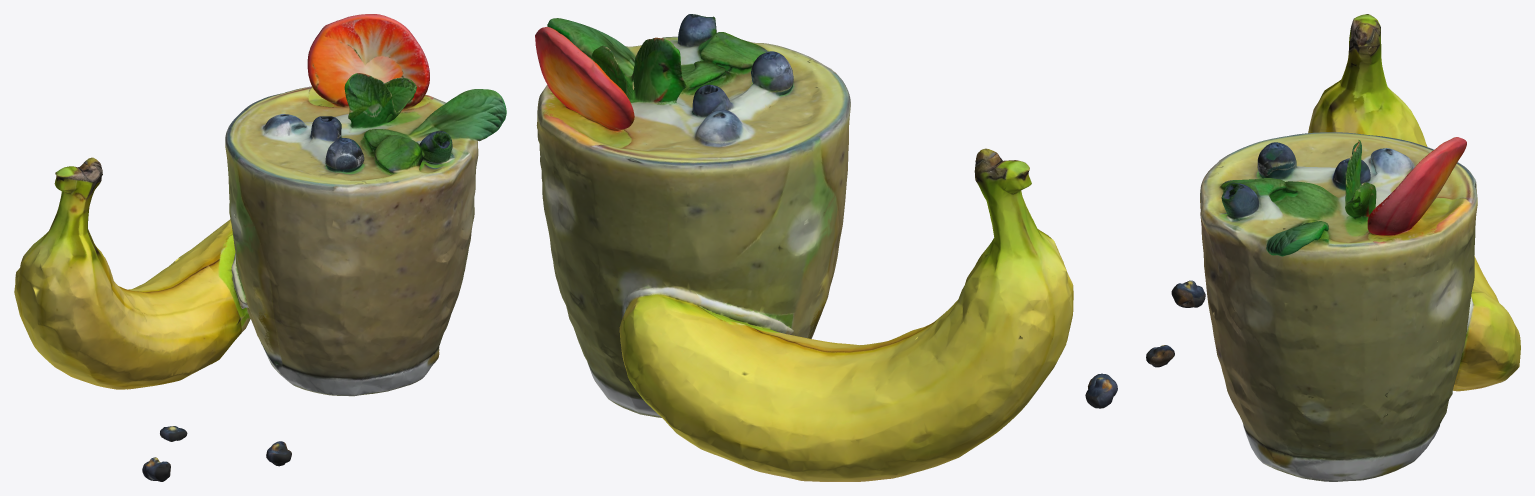
File: cold_coffee.glb
The picture shows the model from 3 angles, left to right: view 1: azimuth 30°, elevation 25°; view 2: azimuth 150°, elevation 25°; view 3: azimuth 270°, elevation 25°; orthographic projection. The views are drawn at different scales.
Size of the model in its own units: 2 by 1.3 by 1.31.
1 material, 1 textured.
